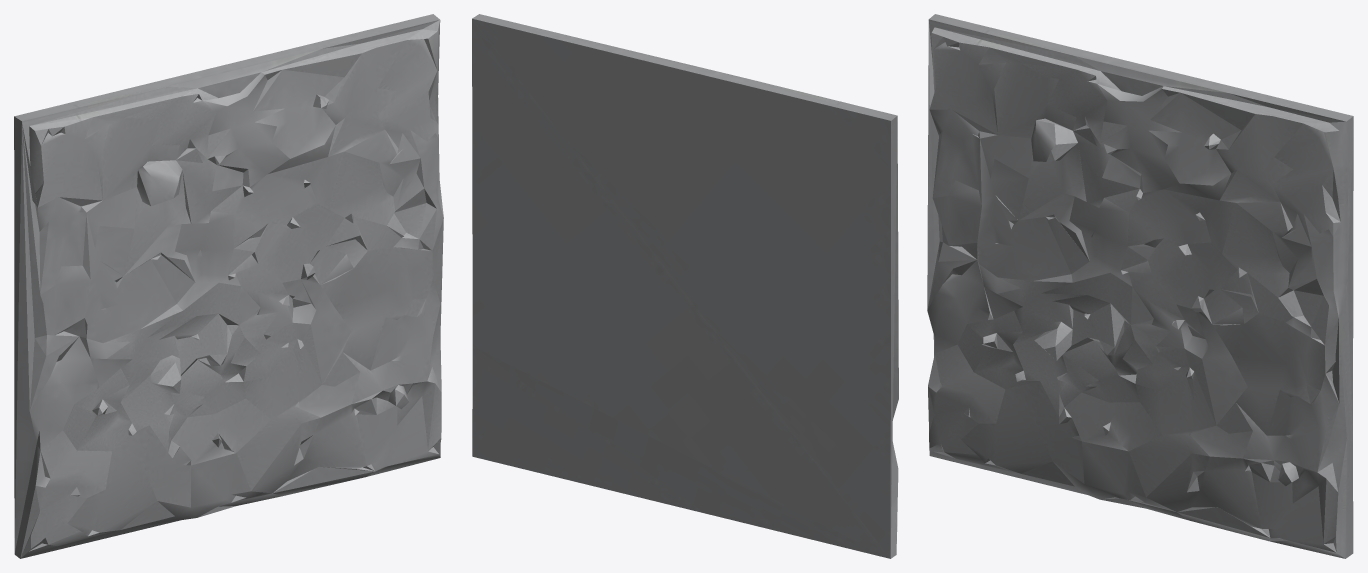
Rendered from tile.glb.
The picture shows the model from 3 angles, left to right: view 1: azimuth 30°, elevation 25°; view 2: azimuth 150°, elevation 25°; view 3: azimuth 330°, elevation 25°; orthographic projection.
Parts seen in each view (by area): view 1: mesh_node; view 2: mesh_node; view 3: mesh_node.
Boxes of the visible parts, bbox=[...] form: mesh_node: bbox=[14, 14, 443, 558]; mesh_node: bbox=[472, 14, 898, 558]; mesh_node: bbox=[927, 14, 1353, 558].
Size of the model in its own units: 1.9 by 1.9 by 0.1959.
Materials: 1 (1 with a texture image).
